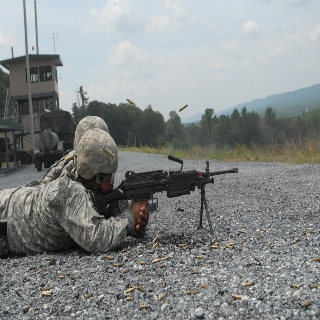rifle: (91, 155, 240, 234)
